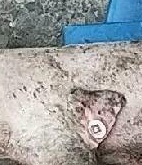text: (82, 111, 113, 147)
